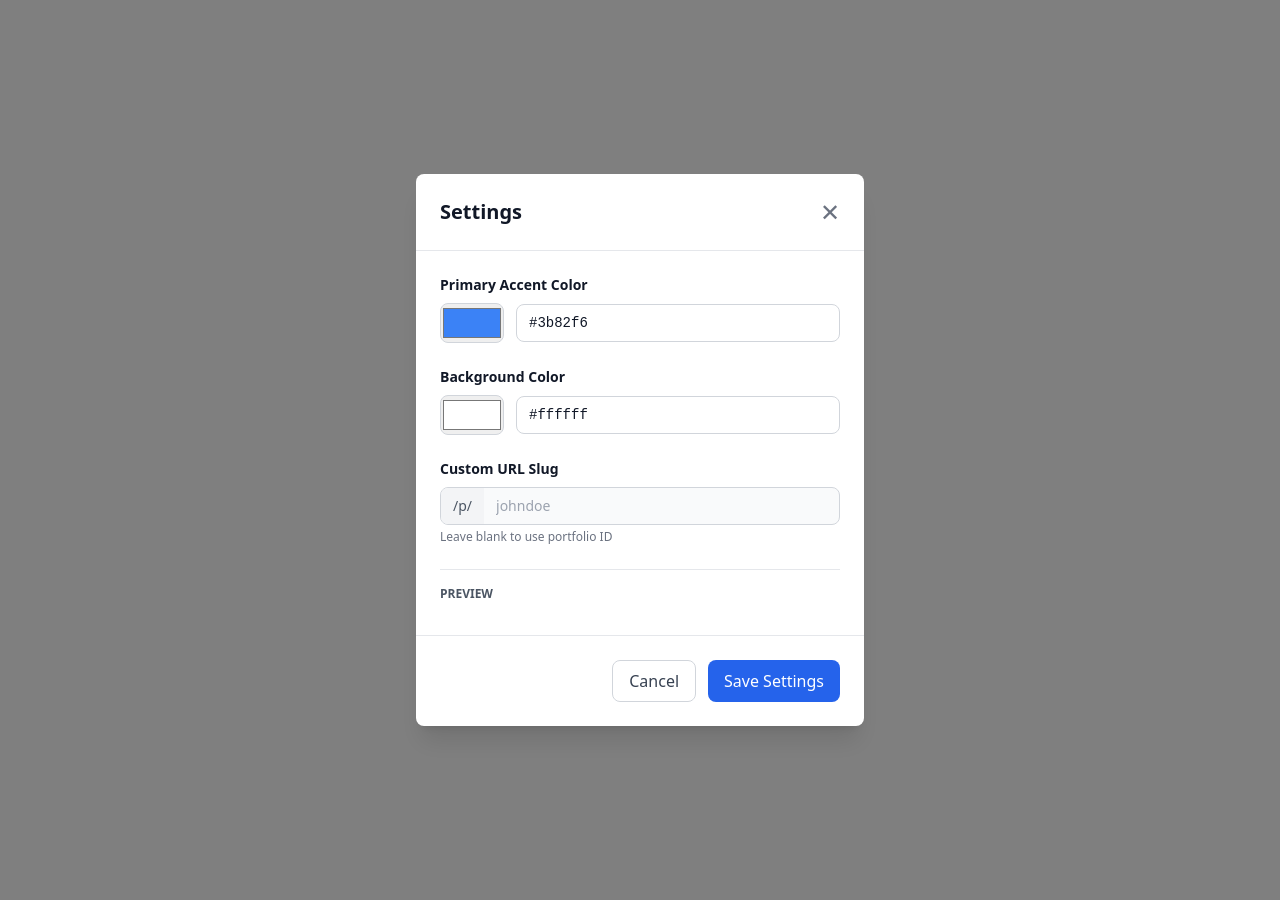
SettingsPanel - Slug Validation › shows Available when slug is free
In the field with placeholder "johndoe": (662, 506) [484,488,839,524], type "my-awesome-slug"
Wait 400 ms
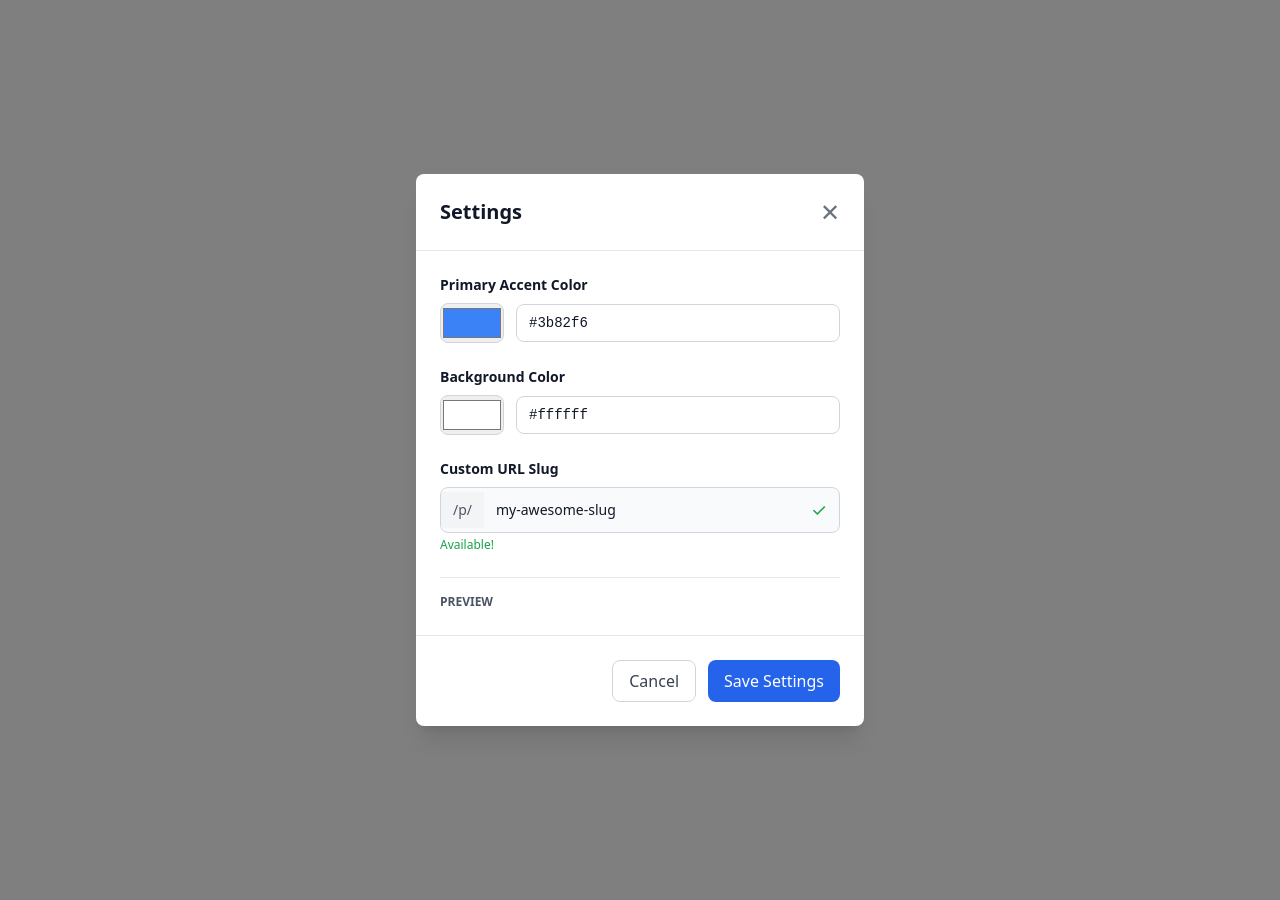
Expected: the text "Available!" is shown, [440,536,494,553]
Expected: the text "✓" is shown, [811,498,827,522]
